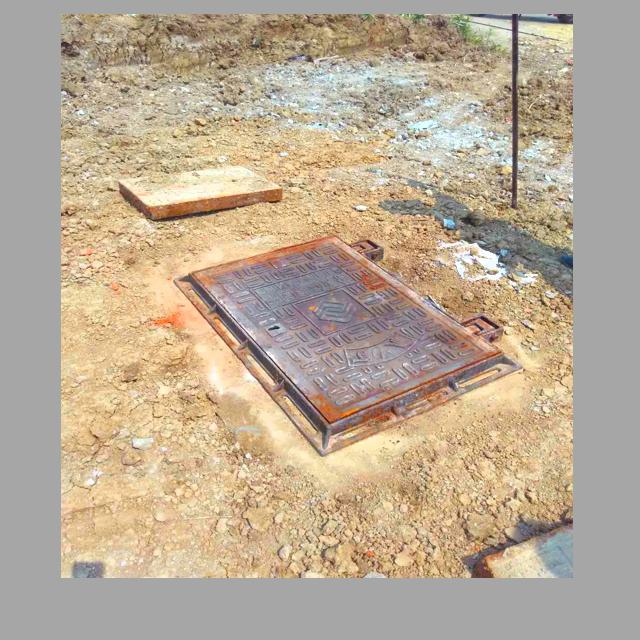good: (195, 233, 503, 442)
